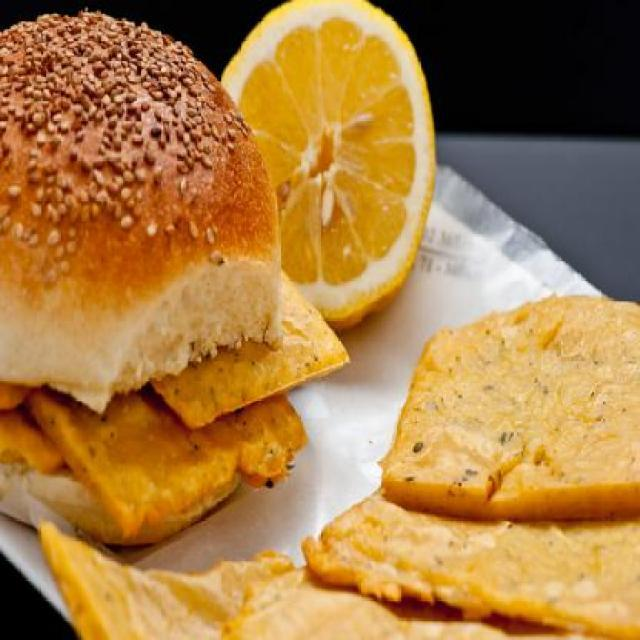Orange: (220, 6, 434, 339)
